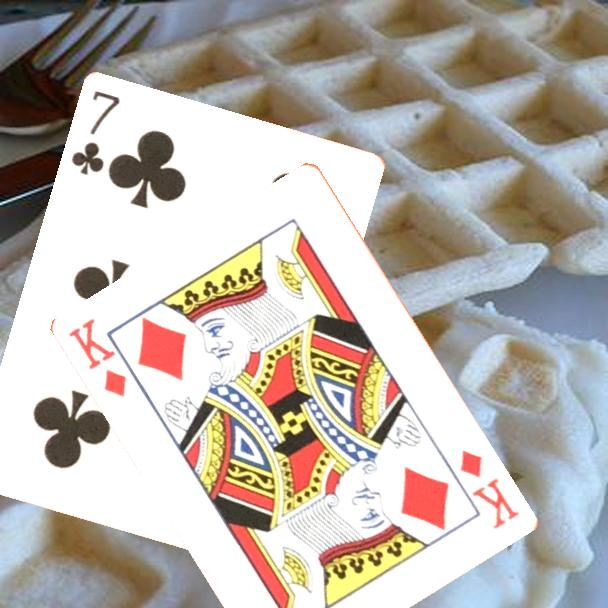c07: (68, 88, 124, 179)
d13: (457, 446, 523, 533), (65, 315, 130, 401)
